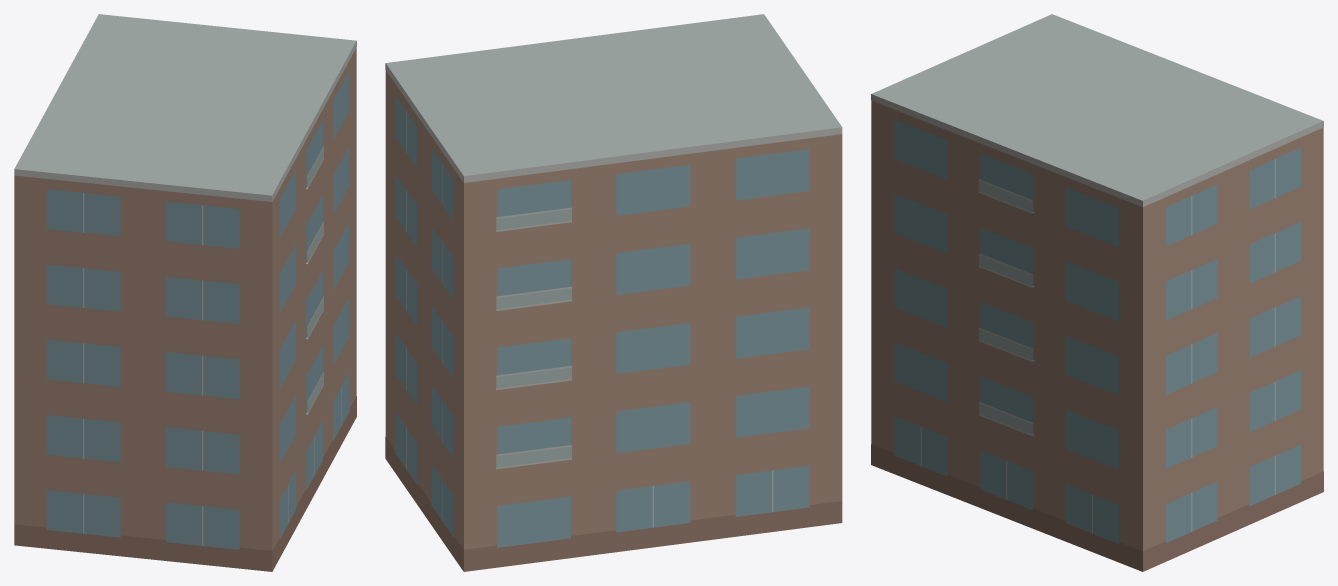
Rendered from survey-upis-32961413.glb.
3 views of the same model, side by side, from view 1: azimuth 30°, elevation 25°; view 2: azimuth 150°, elevation 25°; view 3: azimuth 270°, elevation 25° (orthographic). The views are drawn at different scales.
Visible parts, largest first — view 1: survey-upis-32961413.tmp; view 2: survey-upis-32961413.tmp; view 3: survey-upis-32961413.tmp.
Boxes of the visible parts, left/top/right/bottom form: survey-upis-32961413.tmp: left=14, top=14, right=356, bottom=571; survey-upis-32961413.tmp: left=385, top=14, right=842, bottom=571; survey-upis-32961413.tmp: left=871, top=14, right=1323, bottom=571.
Bounding box in the file's own units: 15.46 × 14.3 × 15.82.
